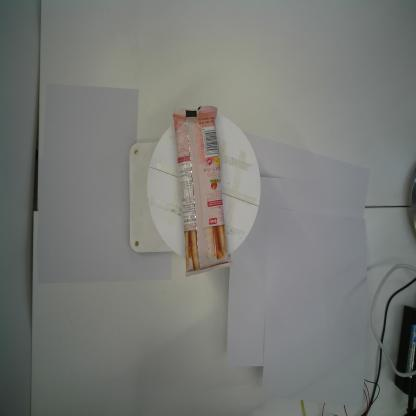Dessert: (171, 103, 234, 281)
